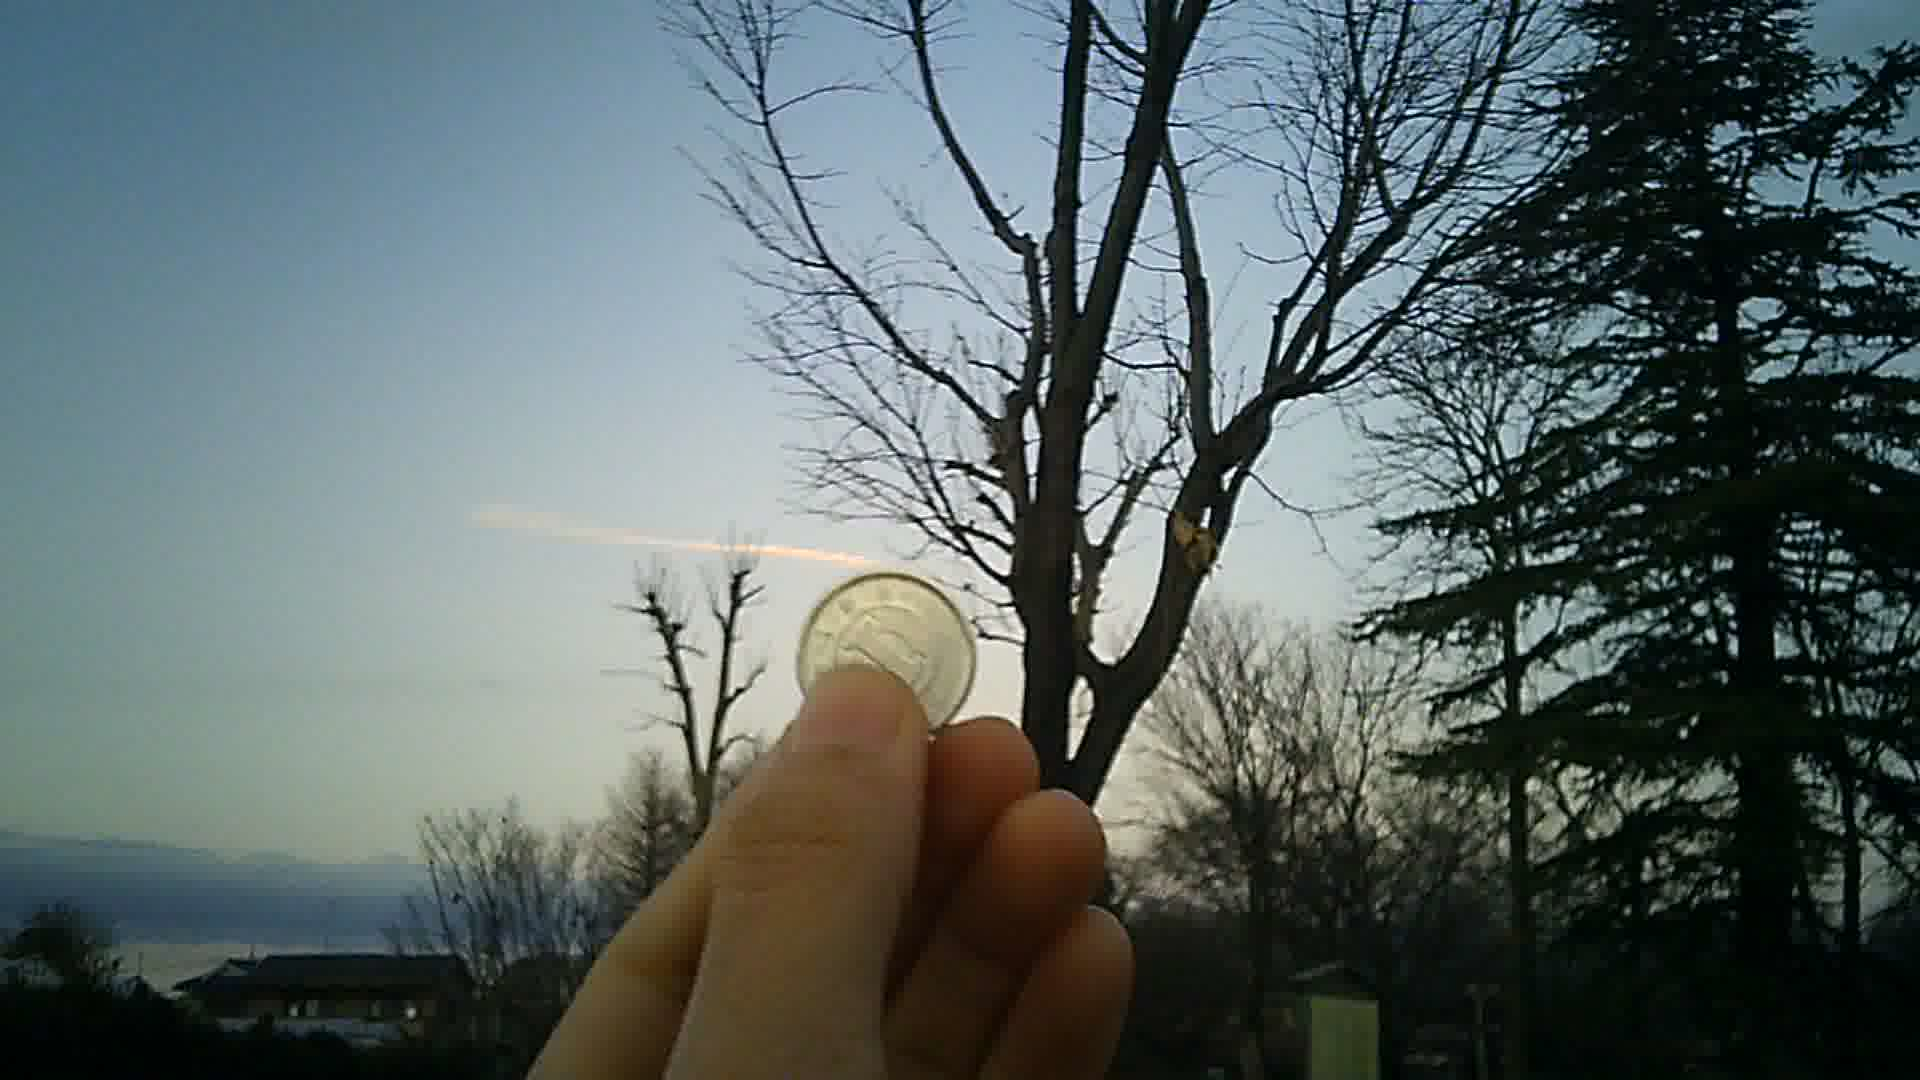1 Yen: (800, 570, 975, 740)
